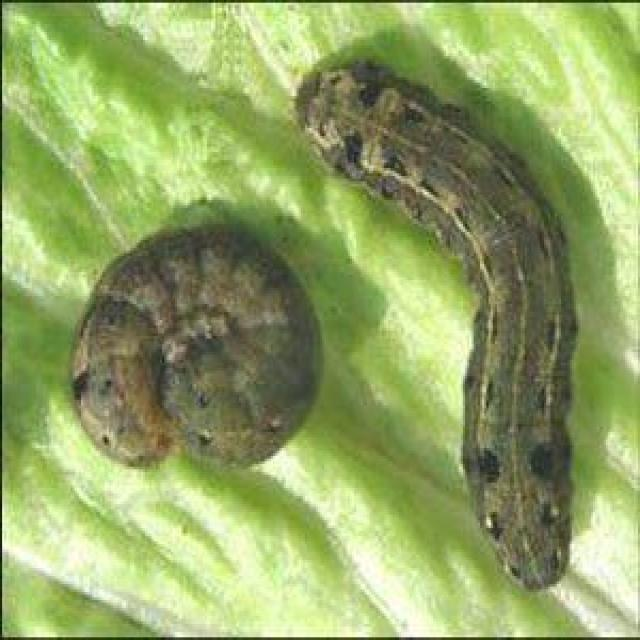BeetArmyWorm-Larva-: (296, 42, 590, 590), (71, 202, 328, 481)
